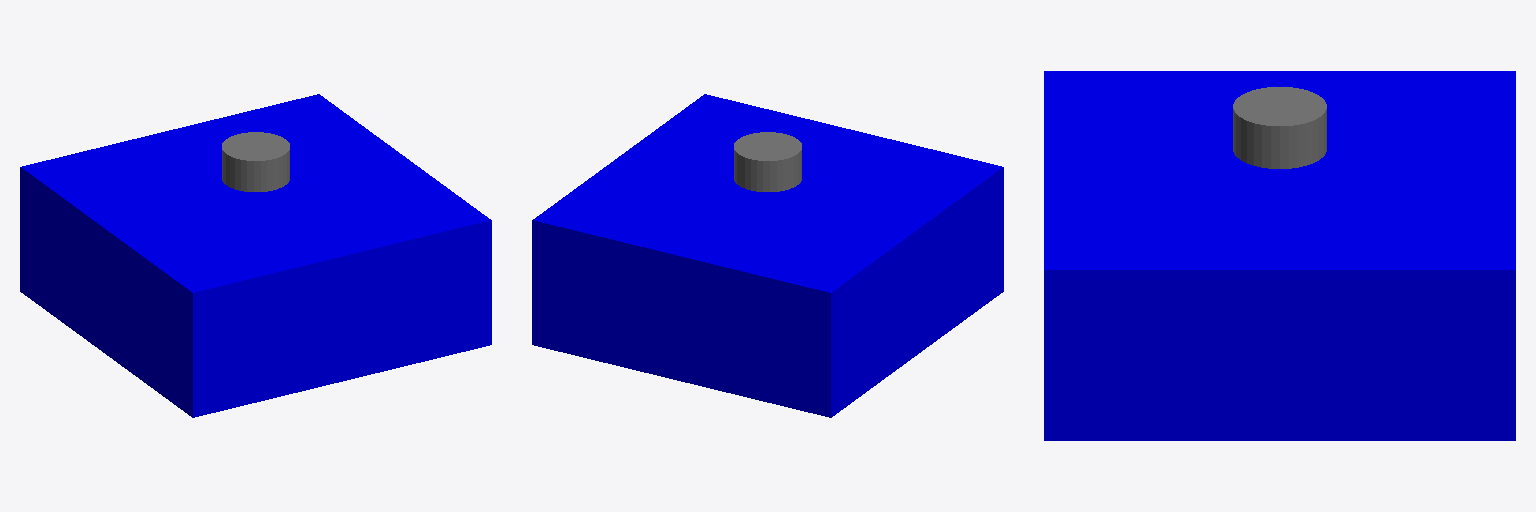
robot.urdf — basic_robot:
<?xml version="1.0"?>
<robot name="basic_robot" xmlns:xacro="http://ros.org/wiki/xacro">

  <!-- Robot Base Link -->
  <link name="base_link">
    <visual>
      <geometry>
        <box size="0.5 0.5 0.2"/>
      </geometry>
      <material name="blue">
        <color rgba="0 0 1 1"/>
      </material>
    </visual>
    <collision>
      <geometry>
        <box size="0.5 0.5 0.2"/>
      </geometry>
    </collision>
    <inertial>
      <mass value="5.0"/>
      <inertia ixx="0.1" ixy="0" ixz="0" iyy="0.1" iyz="0" izz="0.1"/>
      <origin xyz="0 0 0" rpy="0 0 0"/>
    </inertial>
  </link>

  <!-- LiDAR frame -->
  <link name="lidar_link">
    <visual>
      <geometry>
        <cylinder length="0.05" radius="0.05"/>
      </geometry>
      <material name="grey">
        <color rgba="0.5 0.5 0.5 1"/>
      </material>
    </visual>
    <collision>
      <geometry>
        <cylinder length="0.05" radius="0.05"/>
      </geometry>
    </collision>
  </link>

  <!-- Joint for LiDAR on top of base -->
  <joint name="lidar_joint" type="fixed">
    <parent link="base_link"/>
    <child link="lidar_link"/>
    <origin xyz="0 0 0.15" rpy="0 0 0"/>
  </joint>

  <!-- LiDAR sensor plugin -->
  <gazebo>
    <sensor type="gpu_ray" name="lidar_sensor">
      <pose>0 0 0 0 0 0</pose>
      <update_rate>10</update_rate>
      <plugin name="gpu_lidar_plugin" filename="libgazebo_ros_gpu_laser.so">
        <ros>
          <namespace>/</namespace>
          <remapping>~/scan:=/lidar</remapping>
        </ros>
        <topicName>/lidar</topicName>
        <frameName>lidar_link</frameName>
        <ray>
          <scan>
            <horizontal>
              <samples>640</samples>
              <resolution>1</resolution>
              <min_angle>-1.5707</min_angle>
              <max_angle>1.5707</max_angle>
            </horizontal>
            <vertical>
              <samples>1</samples>
              <resolution>1</resolution>
              <min_angle>0</min_angle>
              <max_angle>0</max_angle>
            </vertical>
          </scan>
          <range>
            <min>0.1</min>
            <max>10.0</max>
            <resolution>0.01</resolution>
          </range>
        </ray>
      </plugin>
    </sensor>
  </gazebo>

  <!-- Obstacles as fixed boxes in Gazebo -->
  <!-- These will be spawned via the world file or added as models, not URDF, but shown here for concept -->

</robot>

--- Render facts (derived) ---
3 views of the same robot in one strip: view 1: azimuth 30°, elevation 25°; view 2: azimuth 150°, elevation 25°; view 3: azimuth 270°, elevation 25° (orthographic).
Model basic_robot with 2 links and 1 joints (1 fixed), rooted at base_link, posed all joints at 0.
Links seen in each view (by area): view 1: base_link, lidar_link; view 2: base_link, lidar_link; view 3: base_link, lidar_link.
Boxes of the visible links, x1,y1,x2,y2 form: base_link: [20, 94, 491, 417]; lidar_link: [222, 132, 289, 191]; base_link: [532, 94, 1003, 417]; lidar_link: [734, 132, 801, 191]; base_link: [1044, 71, 1515, 440]; lidar_link: [1233, 87, 1326, 168].
Bounding box of the posed robot: 0.5 × 0.5 × 0.275 m (x, y, z).
Geometry: primitives only (box / cylinder / sphere), no mesh files.